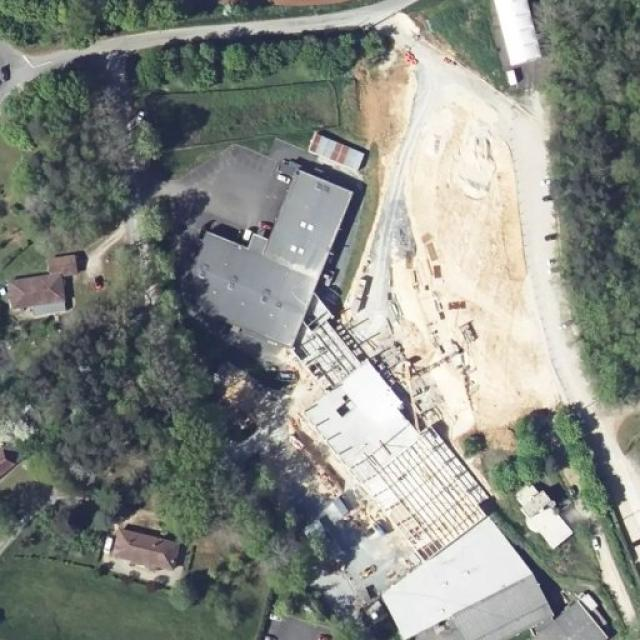maison: (522, 579, 624, 640), (0, 239, 78, 315), (104, 520, 185, 576)
usine: (274, 314, 554, 640), (170, 160, 354, 352)
